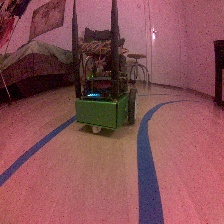rob: (73, 52, 139, 135)
